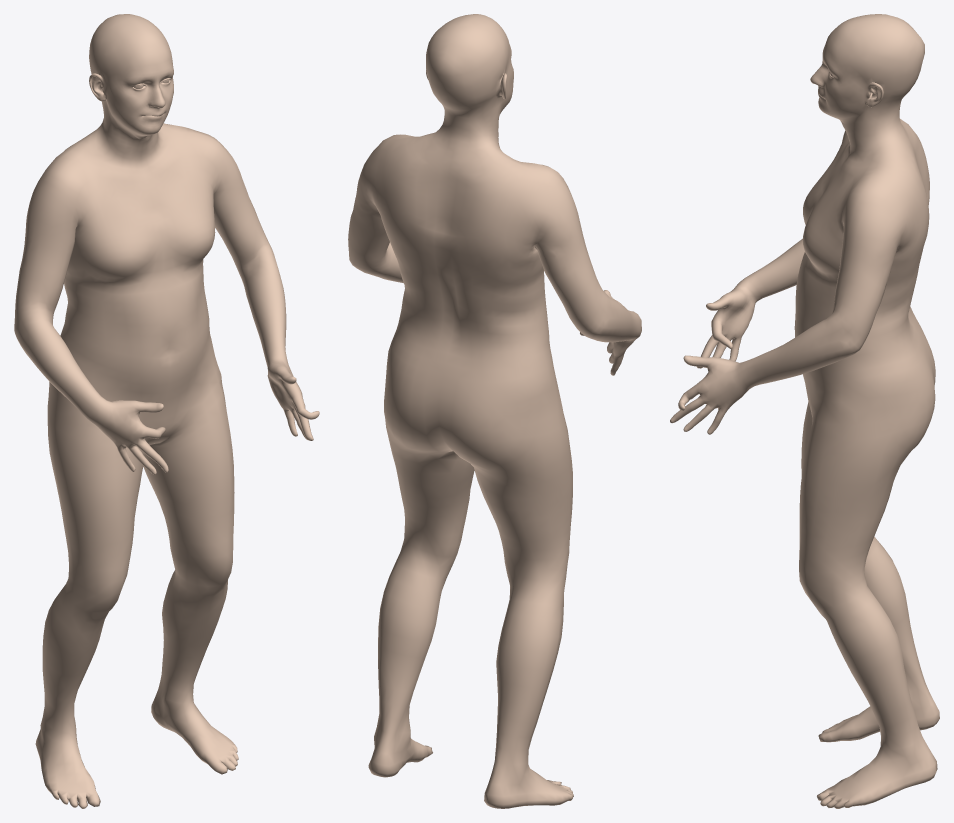
The model's file is WORD-01581.glb.
3 renders of one model, left to right at view 1: azimuth 30°, elevation 25°; view 2: azimuth 150°, elevation 25°; view 3: azimuth 270°, elevation 25°, orthographic. The views are drawn at different scales.
Size of the model in its own units: 0.6075 by 1.72 by 0.5581.
